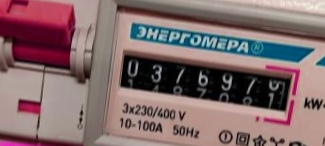0: (125, 56, 140, 78)
1: (264, 90, 277, 109)
3: (148, 61, 164, 83)
6: (195, 65, 211, 87)
7: (171, 62, 187, 85), (242, 73, 257, 96)
9: (219, 70, 233, 92)
screen: (108, 40, 305, 127)
